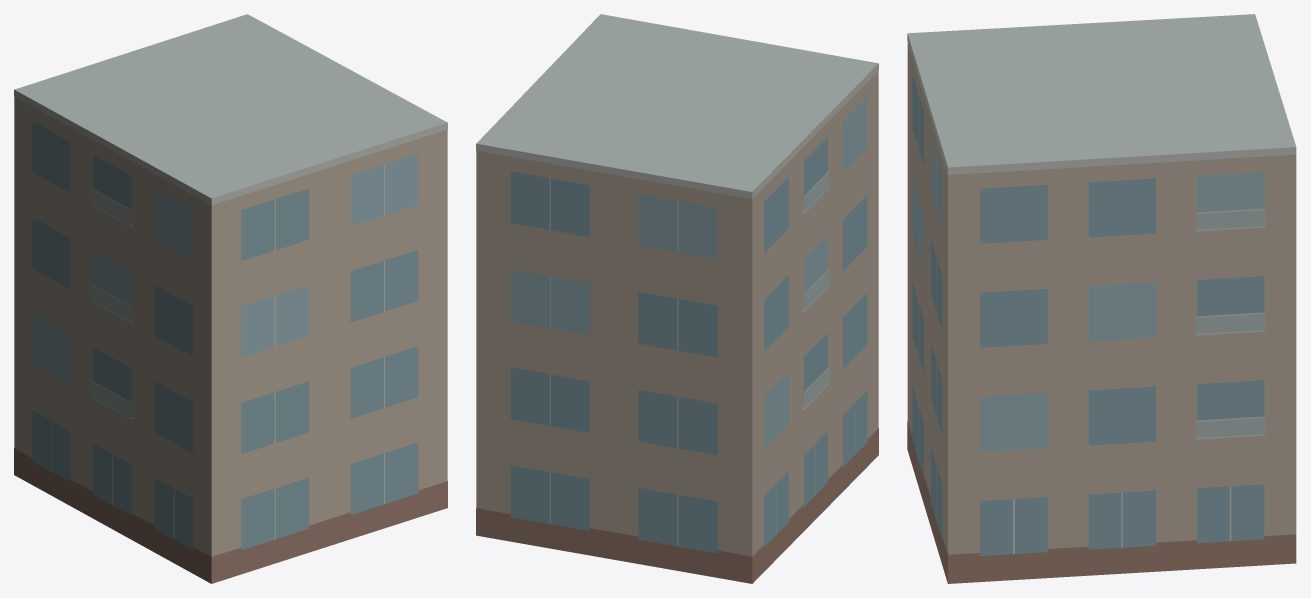
The model's file is survey-upis-32901544.glb.
3 views of the same model, side by side, from view 1: azimuth 30°, elevation 25°; view 2: azimuth 150°, elevation 25°; view 3: azimuth 270°, elevation 25° (orthographic). The views are drawn at different scales.
Visible parts, largest first — view 1: survey-upis-32901544.tmp; view 2: survey-upis-32901544.tmp; view 3: survey-upis-32901544.tmp.
Boxes of the visible parts, x1,y1,x2,y2 form: survey-upis-32901544.tmp: [14, 14, 447, 583]; survey-upis-32901544.tmp: [476, 14, 878, 583]; survey-upis-32901544.tmp: [907, 14, 1296, 583].
Size of the model in its own units: 10.77 by 13.6 by 11.53.
